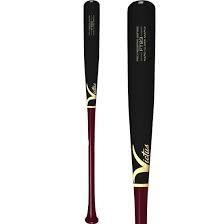Baseball-Bat: (128, 1, 155, 224), (84, 0, 100, 224)
